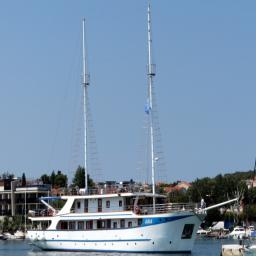cruises: (27, 185, 210, 256)
